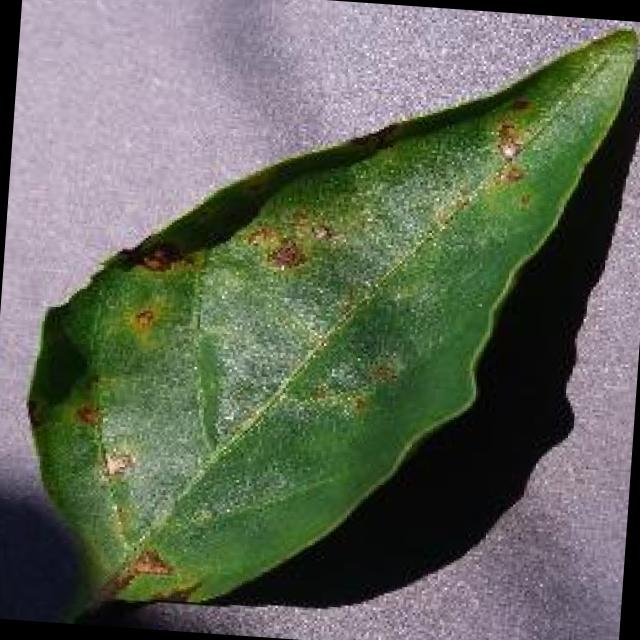Chilli_Bacterial_Spot: (6, 0, 640, 640), (178, 255, 336, 456), (238, 202, 343, 278), (482, 91, 542, 192), (103, 538, 179, 600), (238, 219, 310, 276), (427, 182, 478, 234), (121, 542, 176, 583), (260, 233, 308, 274), (133, 237, 183, 275), (489, 116, 527, 164), (95, 442, 138, 482), (240, 219, 284, 252), (360, 353, 400, 388), (123, 301, 158, 336), (67, 398, 104, 430), (304, 216, 340, 248), (489, 159, 526, 189), (507, 90, 534, 117)
